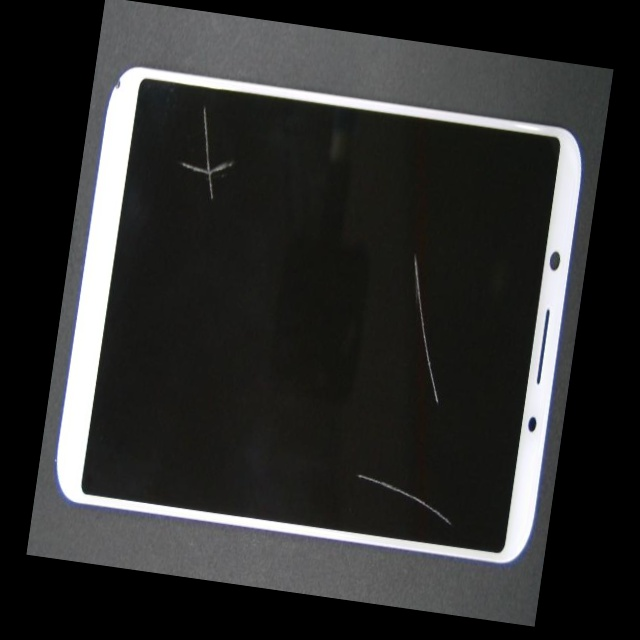scratch: (294, 287, 578, 627), (261, 294, 576, 530), (120, 79, 285, 308)
